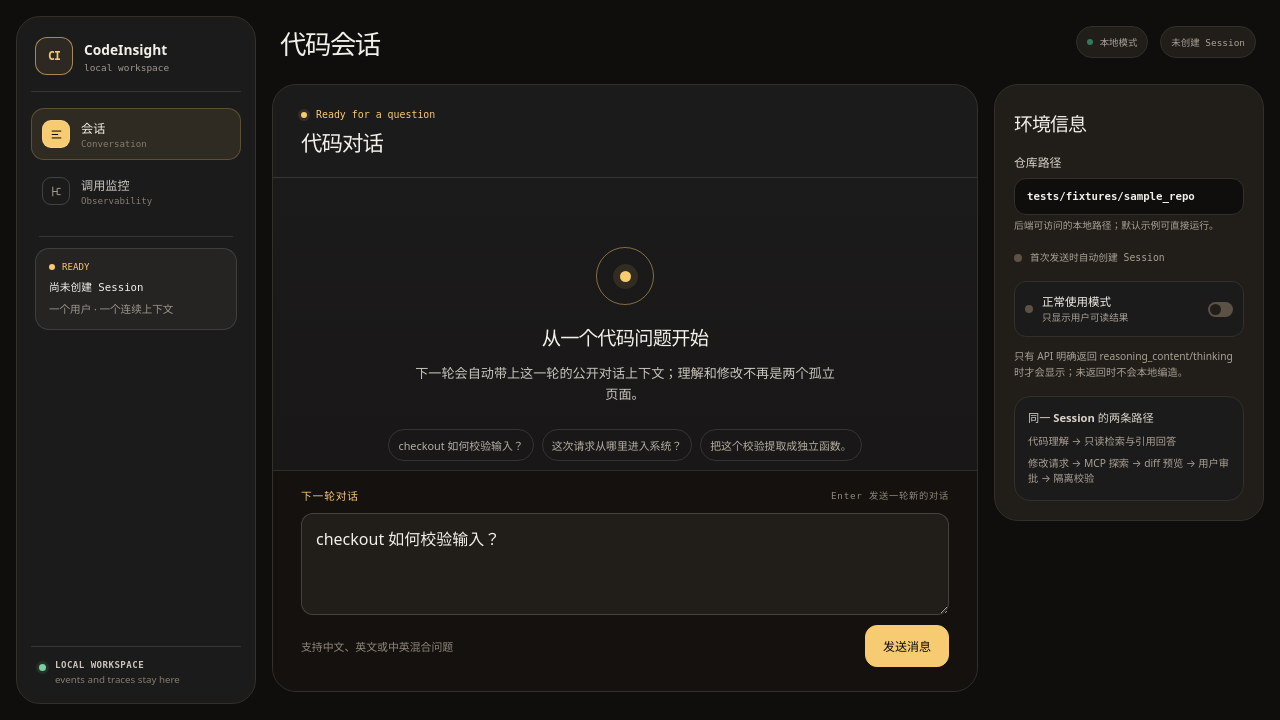
Test case: 提交一轮消息并在实时事件结束后展示回答
Step 1. Click the button "发送消息" → (907, 646), box [865,625,949,667]
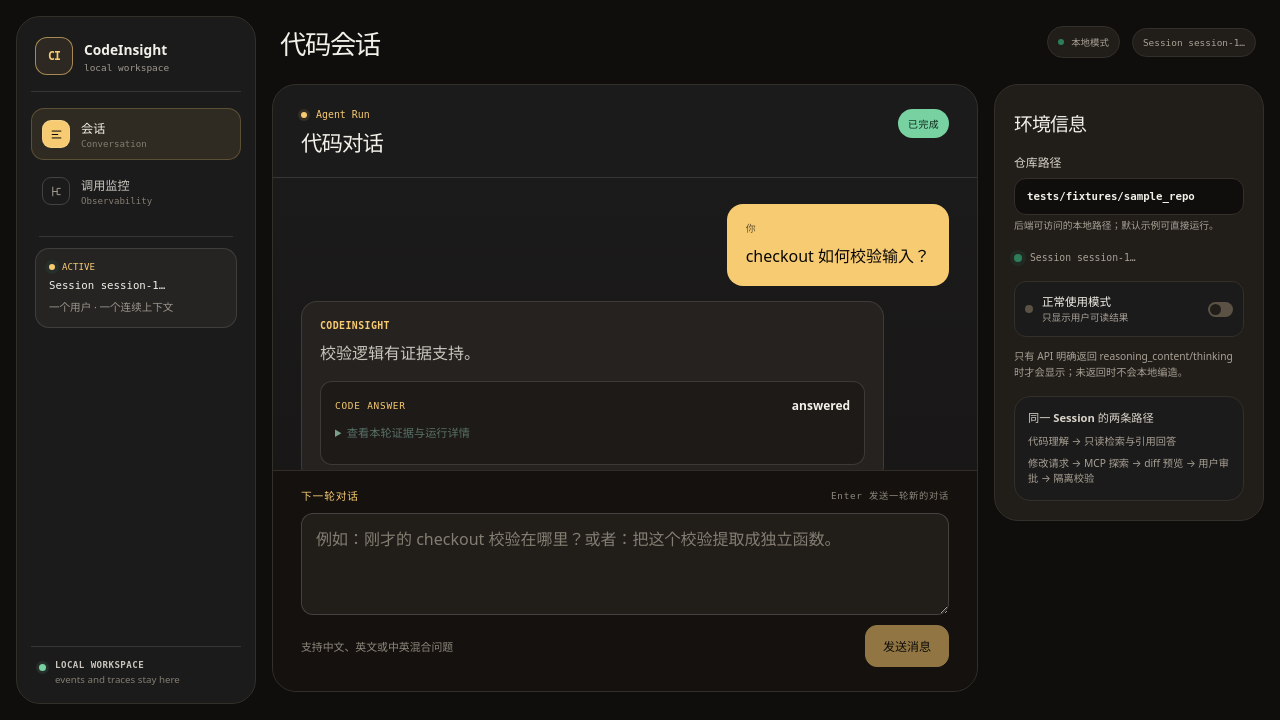
Check: the heading "代码对话" is shown, box [301,126,383,157]
Check: the text "校验逻辑有证据支持。" is shown once, box [320,342,480,364]
Check: the heading "查看本轮证据与运行详情" is shown, box [347,425,470,440]
